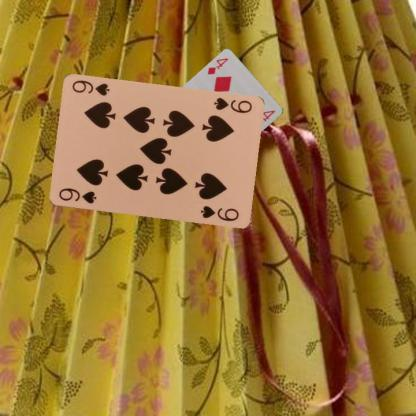4d: (204, 56, 230, 76)
9s: (211, 95, 253, 115), (56, 186, 97, 205)
